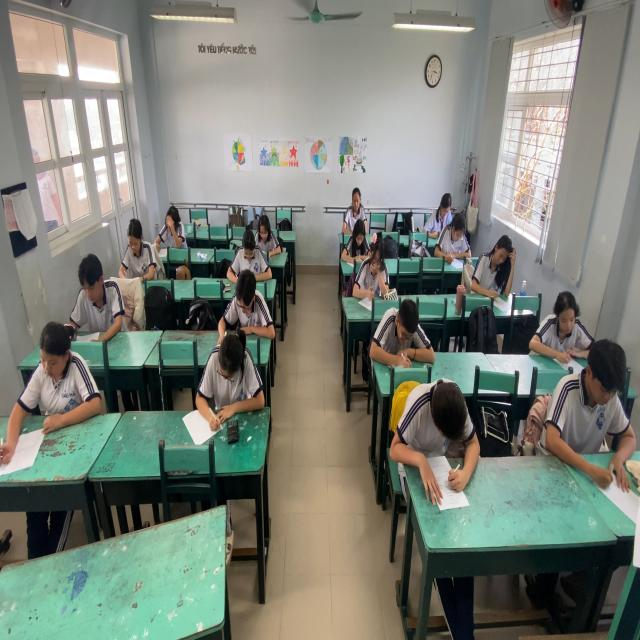not_cheating: (553, 342, 640, 462), (395, 379, 469, 483), (28, 318, 86, 407), (65, 252, 121, 342), (372, 296, 438, 372), (208, 331, 261, 401), (535, 291, 588, 358), (221, 262, 267, 338), (473, 238, 519, 293), (358, 228, 391, 290), (424, 190, 460, 238), (335, 217, 370, 266), (123, 220, 152, 276), (236, 224, 265, 273), (158, 206, 187, 252), (444, 214, 471, 262), (343, 187, 374, 227), (254, 210, 278, 259)
